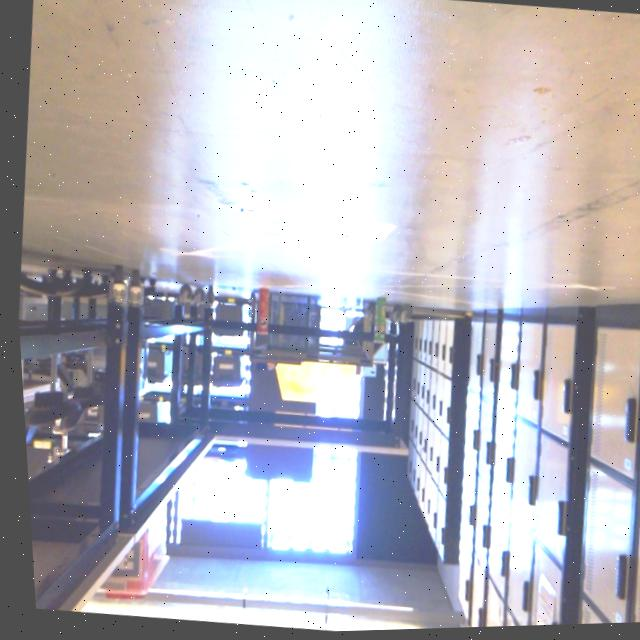greenpringles: (356, 295, 391, 358)
redpringles: (244, 286, 271, 347)
